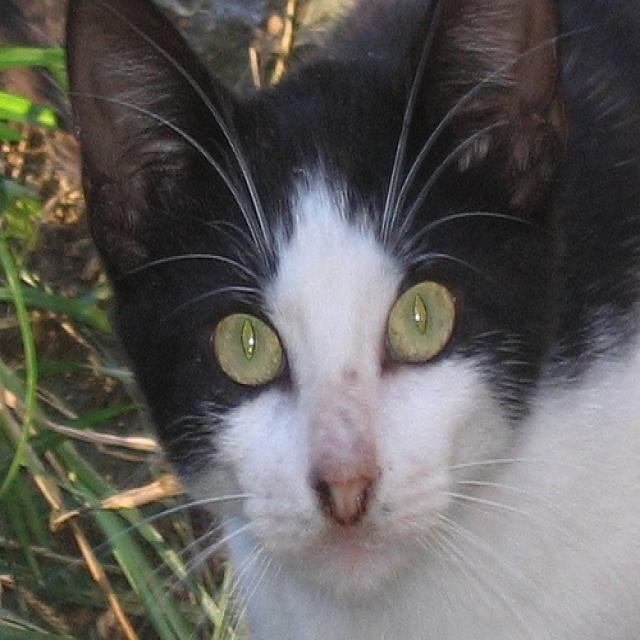cat: (62, 4, 638, 638)
